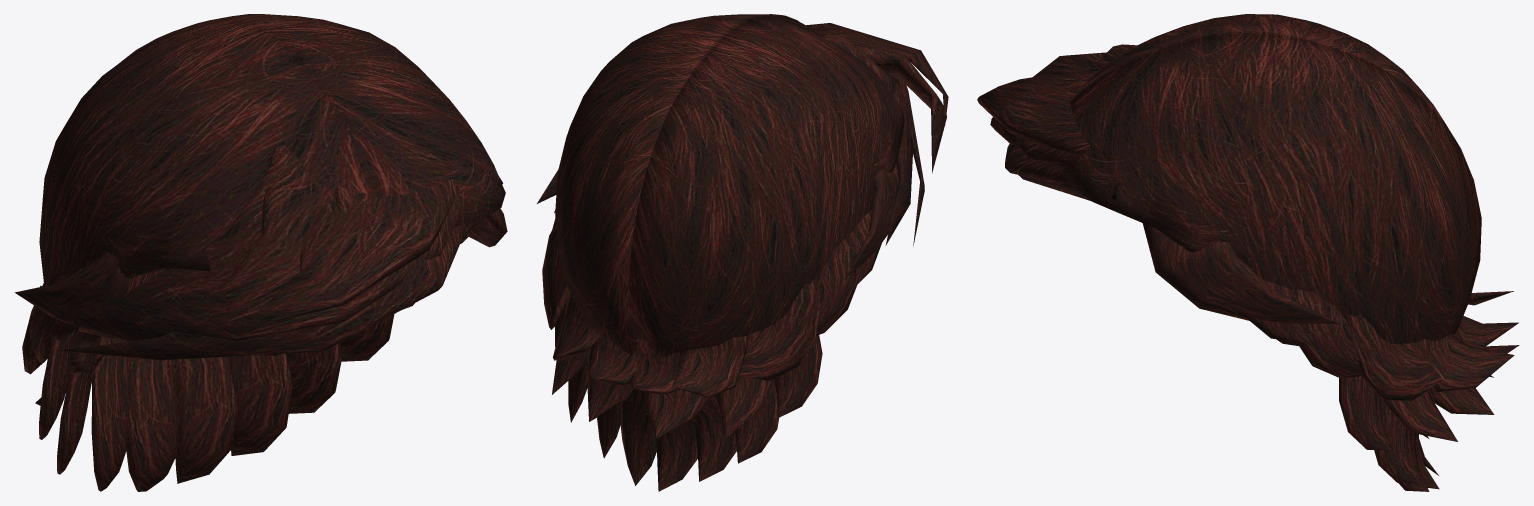
Rendered from 231027_G_Hair_02_WebBuilderTest.glb.
3 views of the same model, side by side, from view 1: azimuth 30°, elevation 25°; view 2: azimuth 150°, elevation 25°; view 3: azimuth 270°, elevation 25° (orthographic). The views are drawn at different scales.
Visible parts, largest first — view 1: G_Hair_02; view 2: G_Hair_02; view 3: G_Hair_02.
Part boxes in pixels (box(x1,y1,x2,y2)): G_Hair_02: box(14, 14, 507, 491); G_Hair_02: box(537, 14, 948, 491); G_Hair_02: box(977, 14, 1519, 491).
Bounding box in the file's own units: 0.1913 × 0.2239 × 0.244.
Materials: 1 (1 with a texture image).
